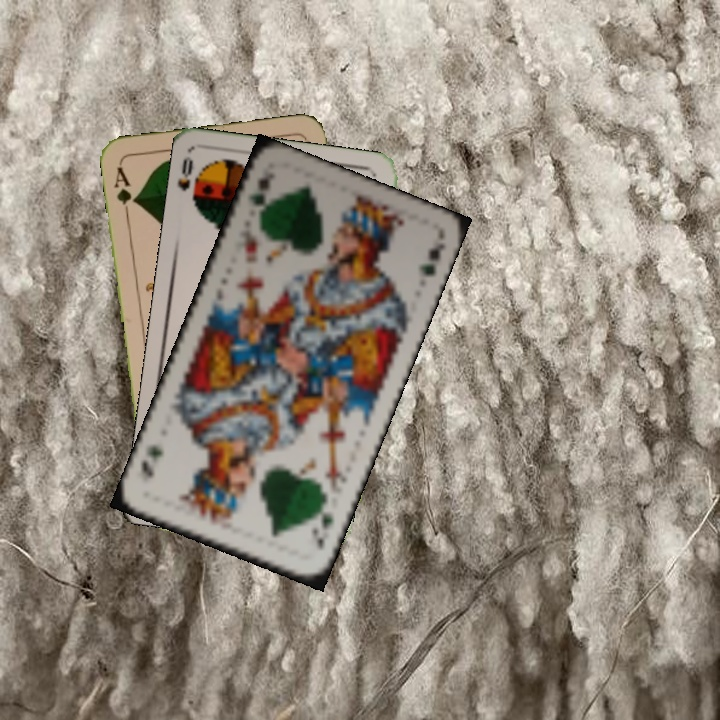GA: (110, 163, 139, 220)
GK: (247, 164, 279, 224), (308, 499, 337, 553)
SO: (174, 152, 203, 210)
